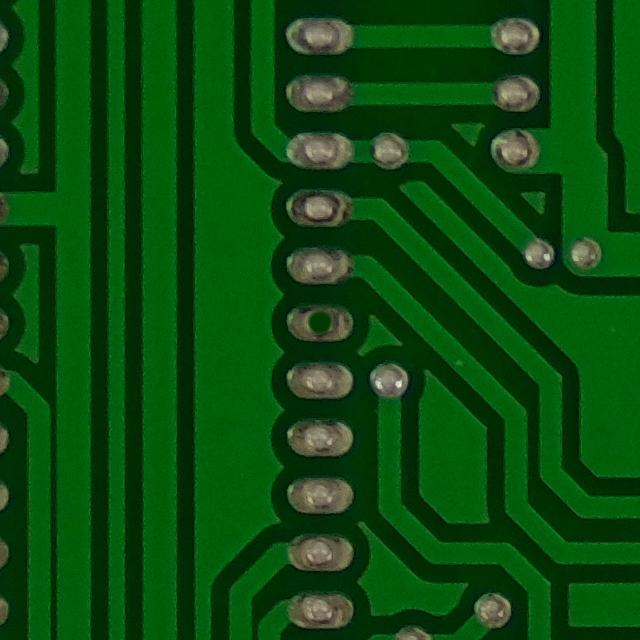missing_hole: (290, 292, 351, 348)
